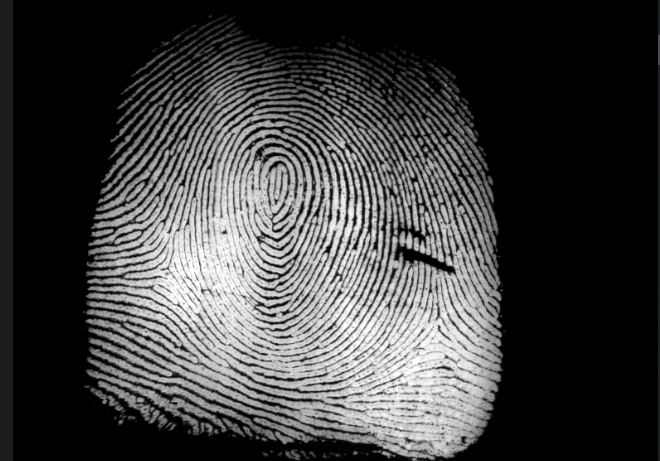nucelo: (259, 160, 290, 207)
verticilo: (149, 249, 181, 285), (424, 308, 451, 343)
